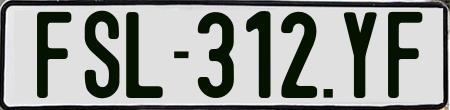1: (245, 10, 274, 99)
2: (278, 11, 318, 101)
3: (197, 9, 238, 95)
F: (36, 9, 71, 98), (388, 10, 423, 98)
L: (126, 10, 165, 96)
S: (83, 11, 123, 100)
Y: (343, 10, 379, 102)
